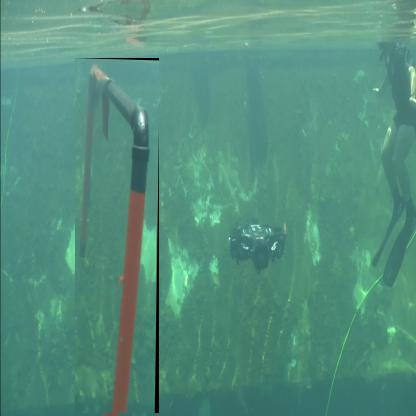gate: (76, 60, 161, 416)
